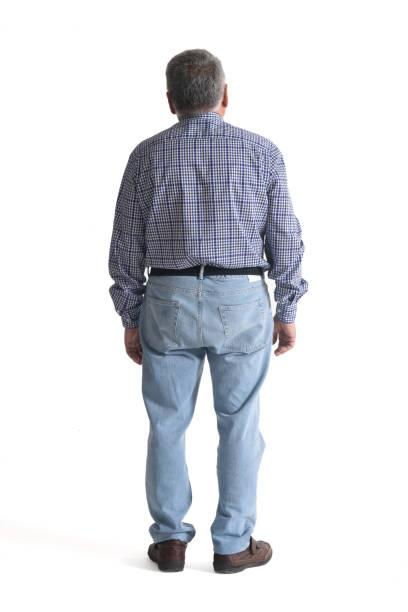Human: (104, 47, 320, 582)
